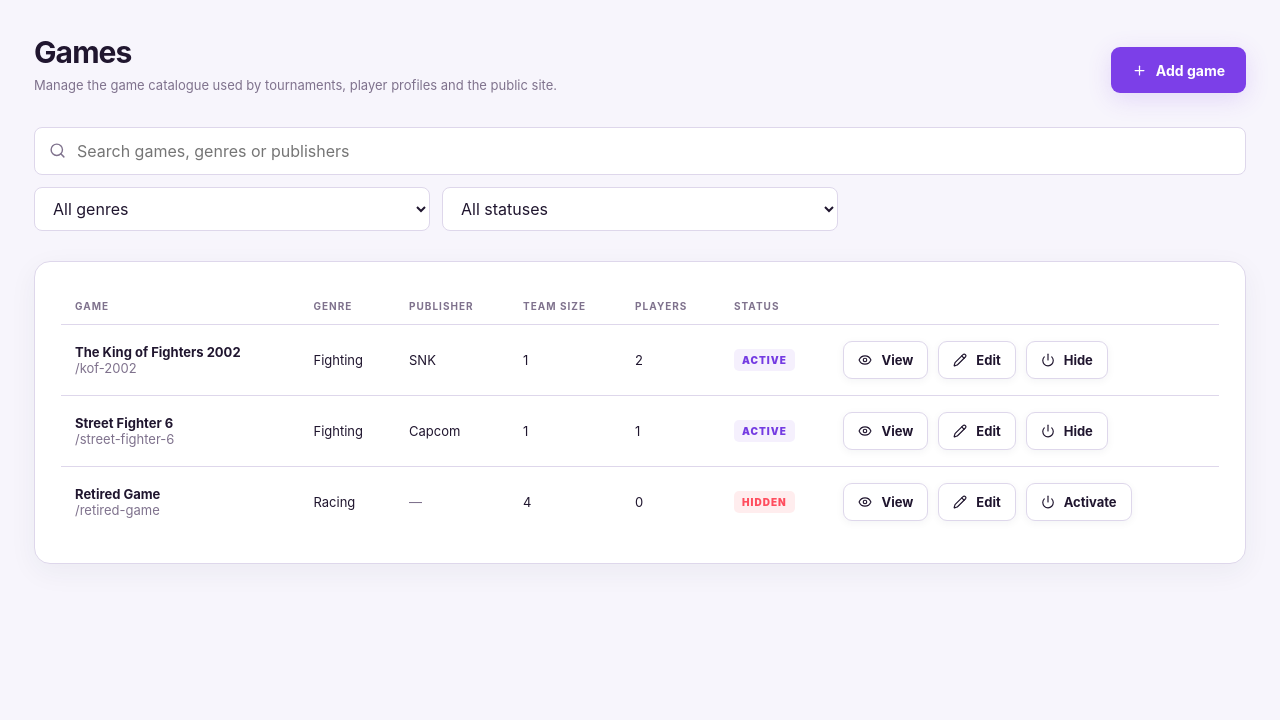
Test: GameCatalogManager › filters the catalog and exposes working view links
Select "Racing" in the dropdown named "Filter games by genre" at (232, 209), box [34,187,430,231]
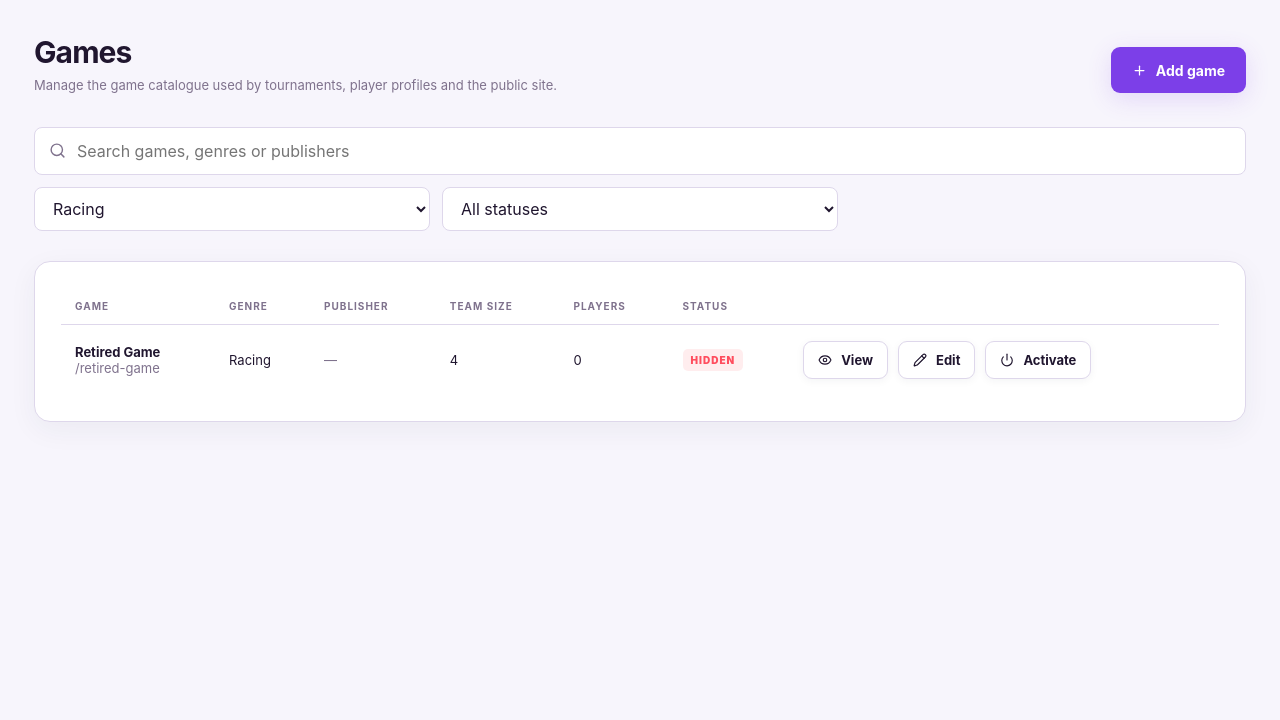
Expected: the text "Retired Game" is shown, [75,344,160,360]
Expected: the text "Street Fighter 6" is gone
